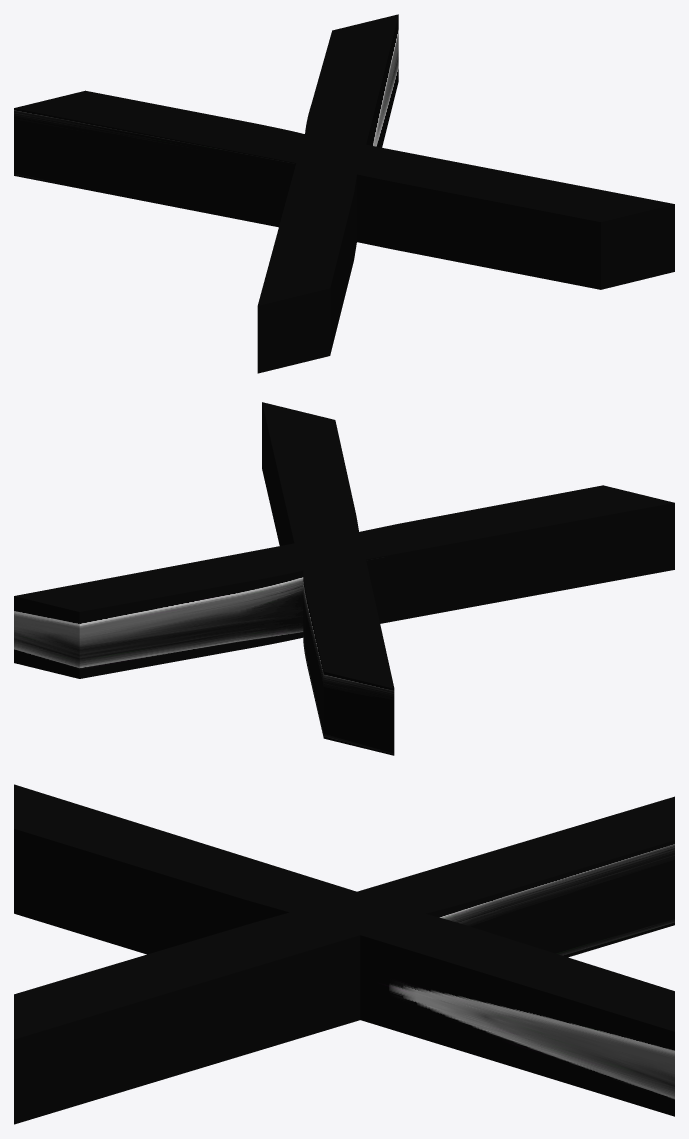
Rendered from 0201_Xzi.glb.
3 renders of one model, top to bottom at view 1: azimuth 30°, elevation 25°; view 2: azimuth 150°, elevation 25°; view 3: azimuth 270°, elevation 25°, orthographic. The views are drawn at different scales.
Bounding box in the file's own units: 2.01 × 0.3118 × 2.2.
1 material, 1 textured.
